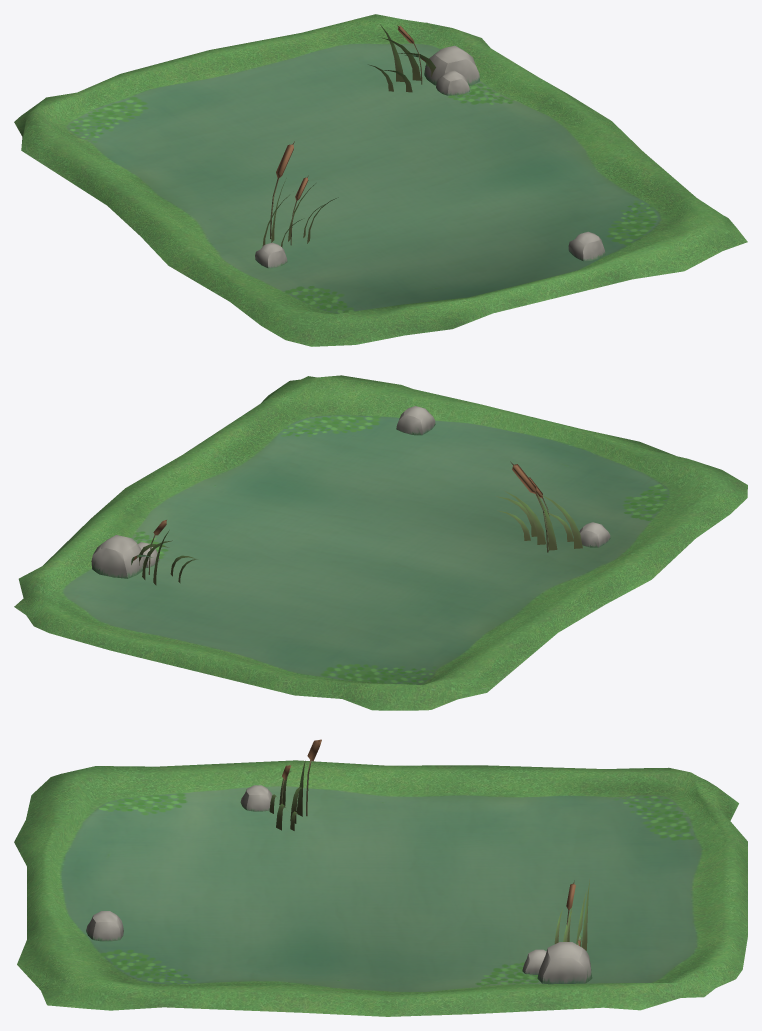
The model's file is Swamp.FBX.
3 views of the same model, one above another, from view 1: azimuth 30°, elevation 25°; view 2: azimuth 150°, elevation 25°; view 3: azimuth 270°, elevation 25° (orthographic). The views are drawn at different scales.
Visible parts, largest first — view 1: Plane001; view 2: Plane001; view 3: Plane001.
Boxes of the visible parts, <box> form: Plane001: <box>14,14,747,346</box>; Plane001: <box>14,375,747,710</box>; Plane001: <box>14,739,747,1016</box>.
Bounding box in the file's own units: 41.46 × 7.48 × 50.9.
